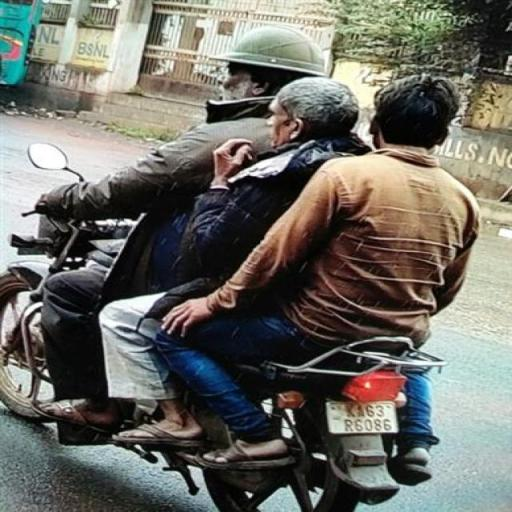tripple riding: (20, 22, 486, 298)
